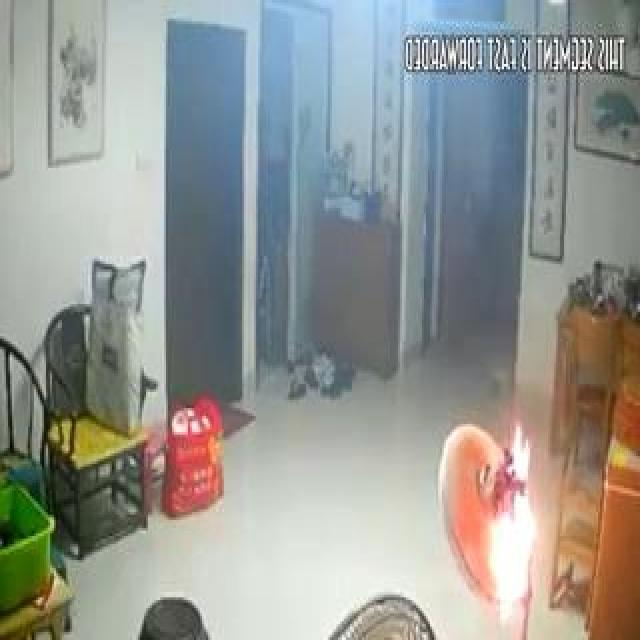Fire: (467, 363, 539, 632)
